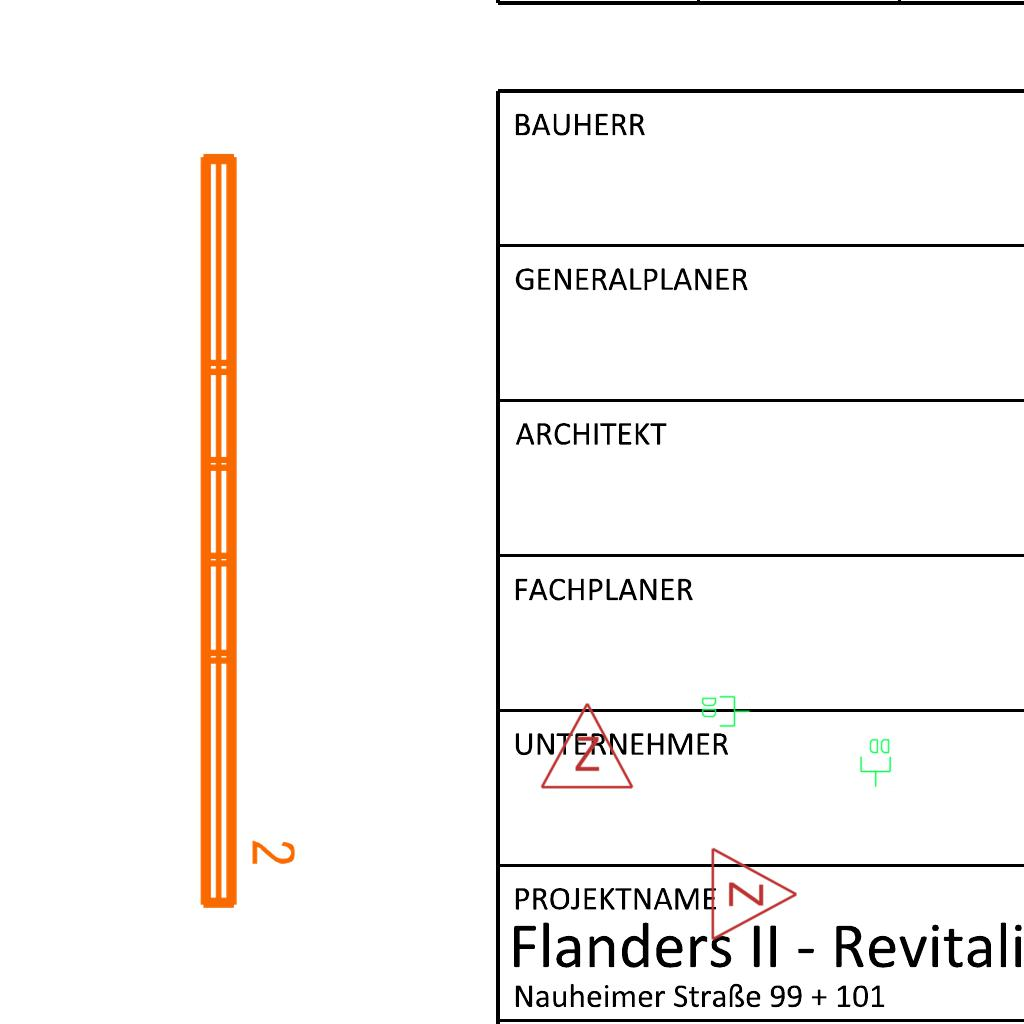Ambulanz_Pendelleuchte_LED: (188, 143, 300, 917)
Datenanschluss_zweifach: (700, 694, 751, 728), (859, 737, 893, 788)
Zimmersignalleuchte: (537, 696, 635, 796), (704, 844, 804, 942)
